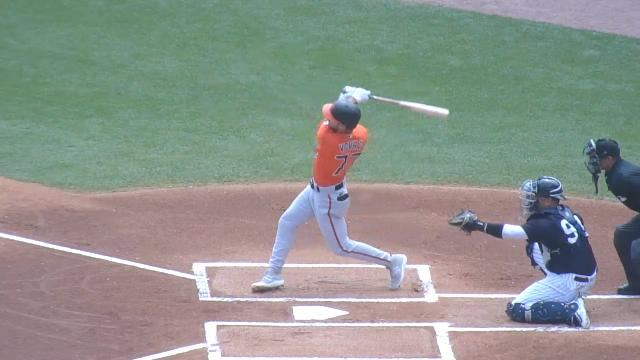bat: (369, 94, 449, 118)
